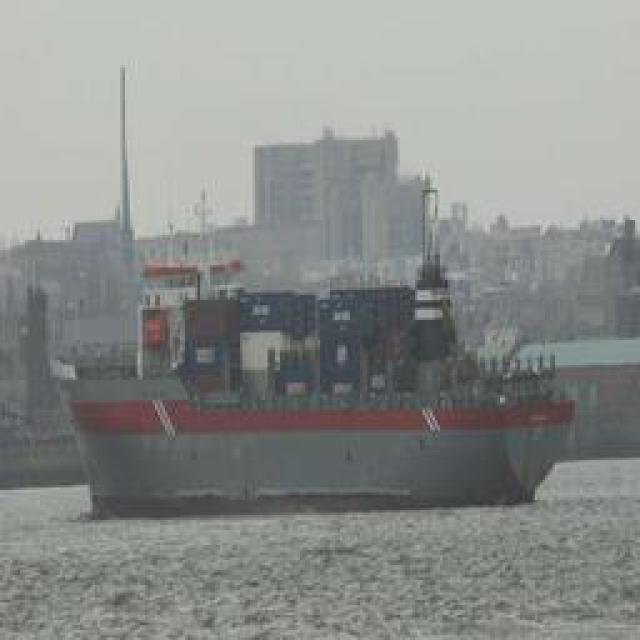Ship: (60, 185, 593, 505)
